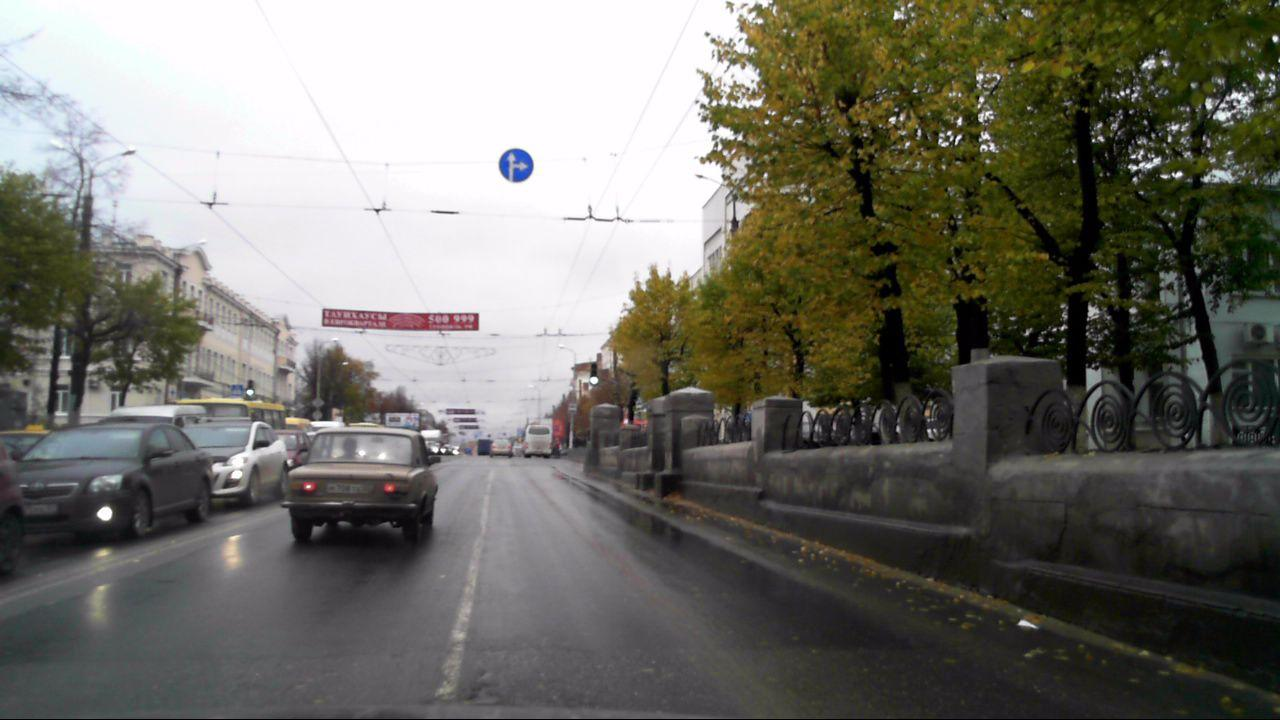road_sign: (499, 150, 535, 183)
